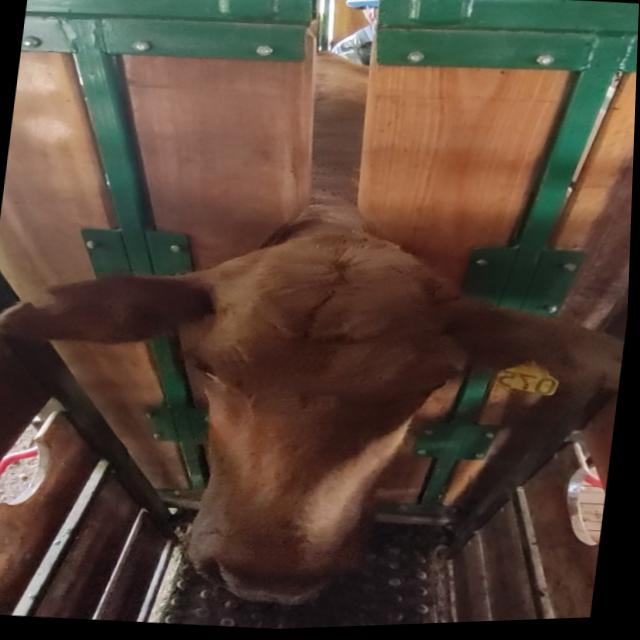cowFace: (169, 238, 467, 621)
